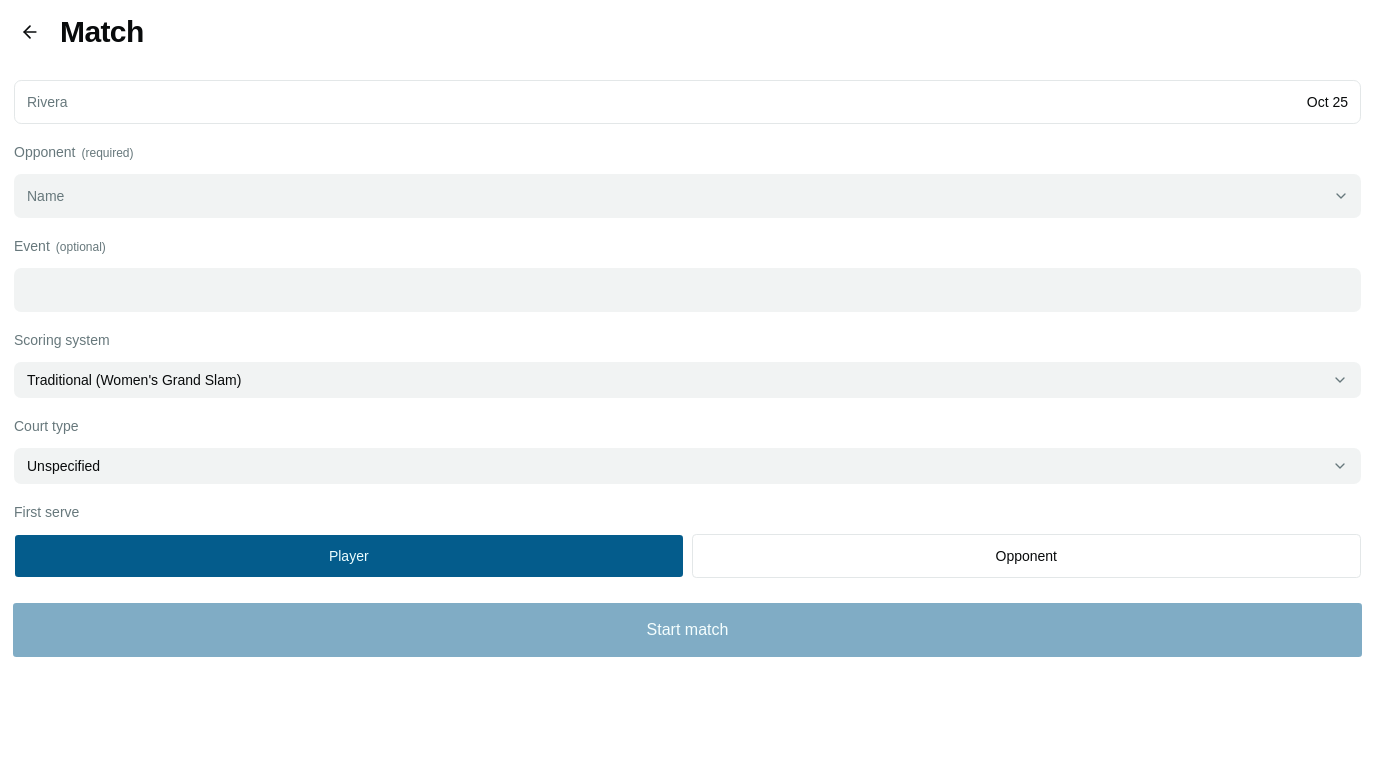
Test: offers previous opponents as suggestions on the Opponent field
What coordinates should you click on to do the following:
click the dropdown labelled "Opponent"
I would click on:
 (688, 196)
Its box is [14, 174, 1361, 218].
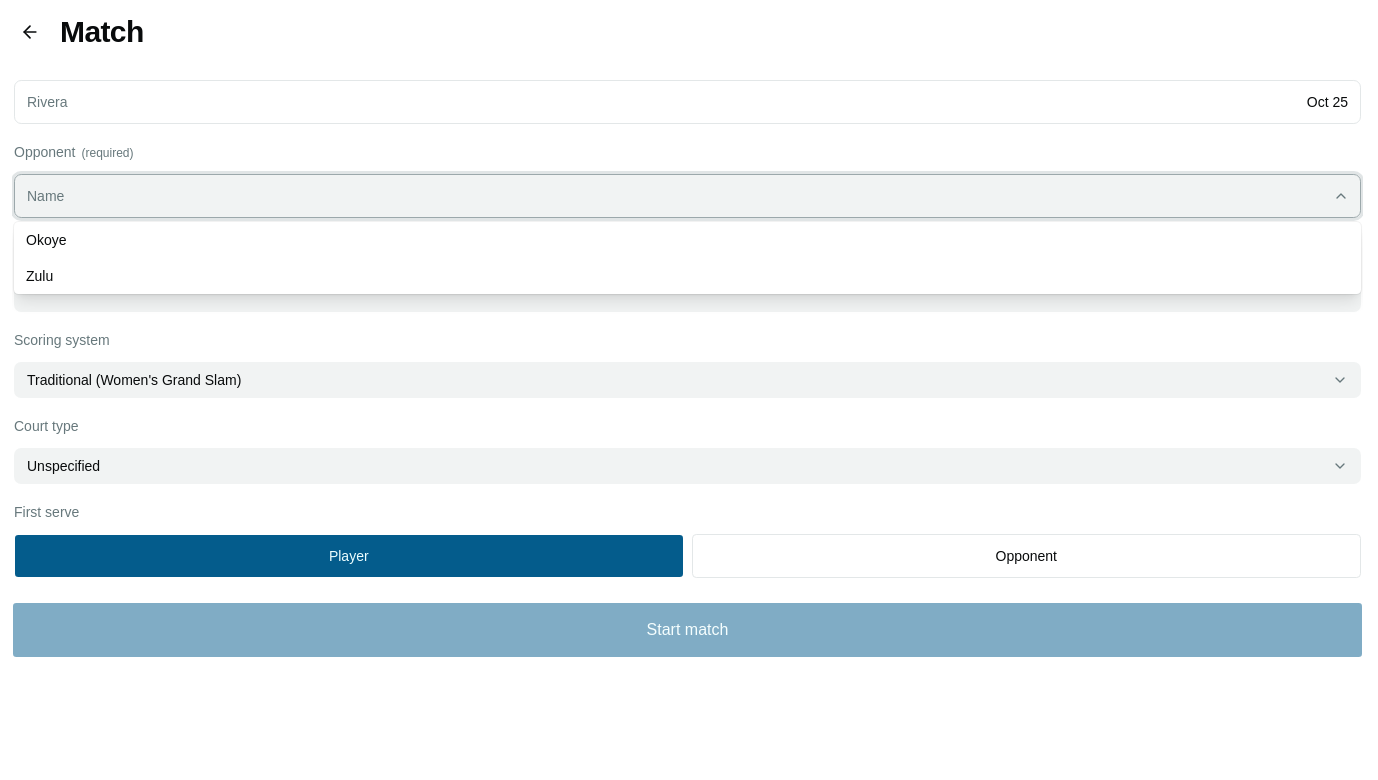
Result: the options read "Okoye", "Zulu", in this order at [14, 222, 1361, 258]; [14, 258, 1361, 294]
